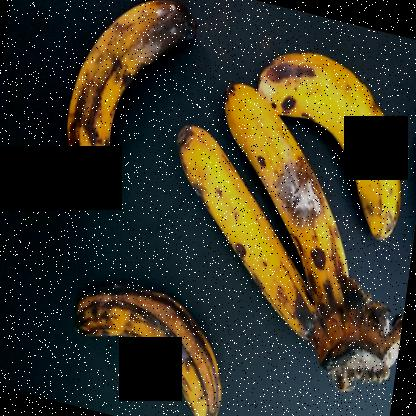overripe: (260, 31, 398, 238), (179, 120, 315, 326), (227, 70, 337, 304)
rotten: (59, 0, 195, 200), (73, 269, 229, 415)
